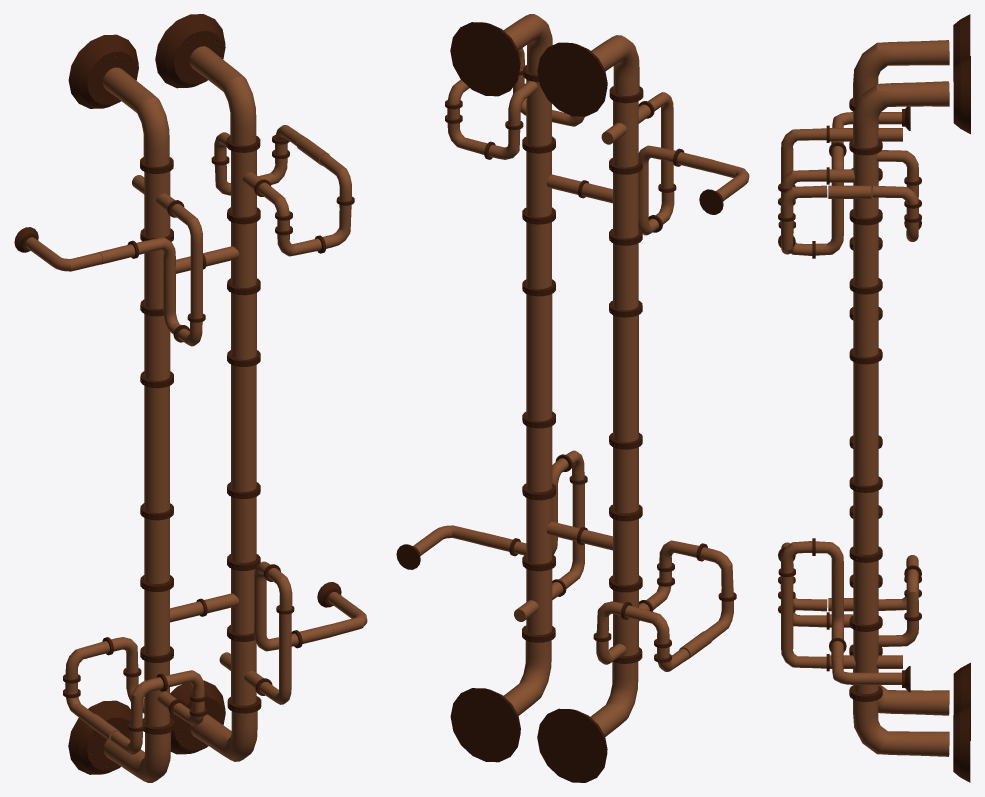
The model's file is tubefinisheduvs.fbx.
3 renders of one model, left to right at view 1: azimuth 30°, elevation 25°; view 2: azimuth 150°, elevation 25°; view 3: azimuth 270°, elevation 25°, orthographic. The views are drawn at different scales.
Parts seen in each view (by area): view 1: Pipe102; view 2: Pipe102; view 3: Pipe102.
Part boxes in pixels (bbox=[...]): Pipe102: bbox=[14, 14, 367, 782]; Pipe102: bbox=[396, 14, 749, 782]; Pipe102: bbox=[778, 14, 970, 782].
Size of the model in its own units: 2396 by 5191 by 1259.
